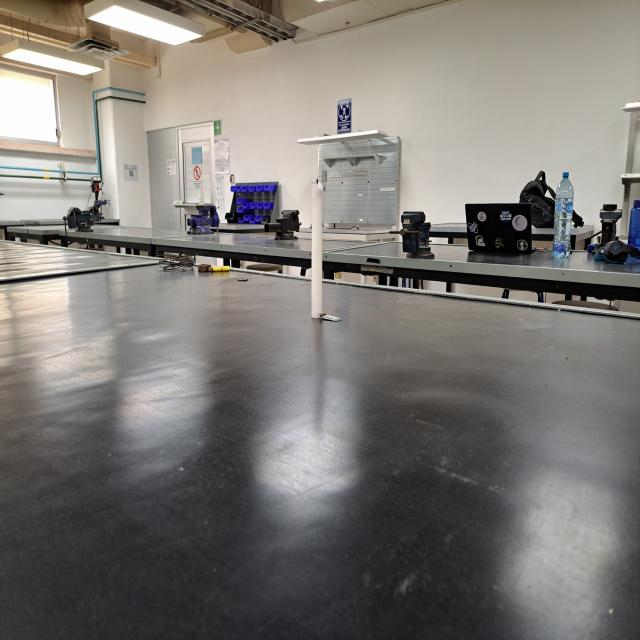candle: (308, 173, 328, 322)
